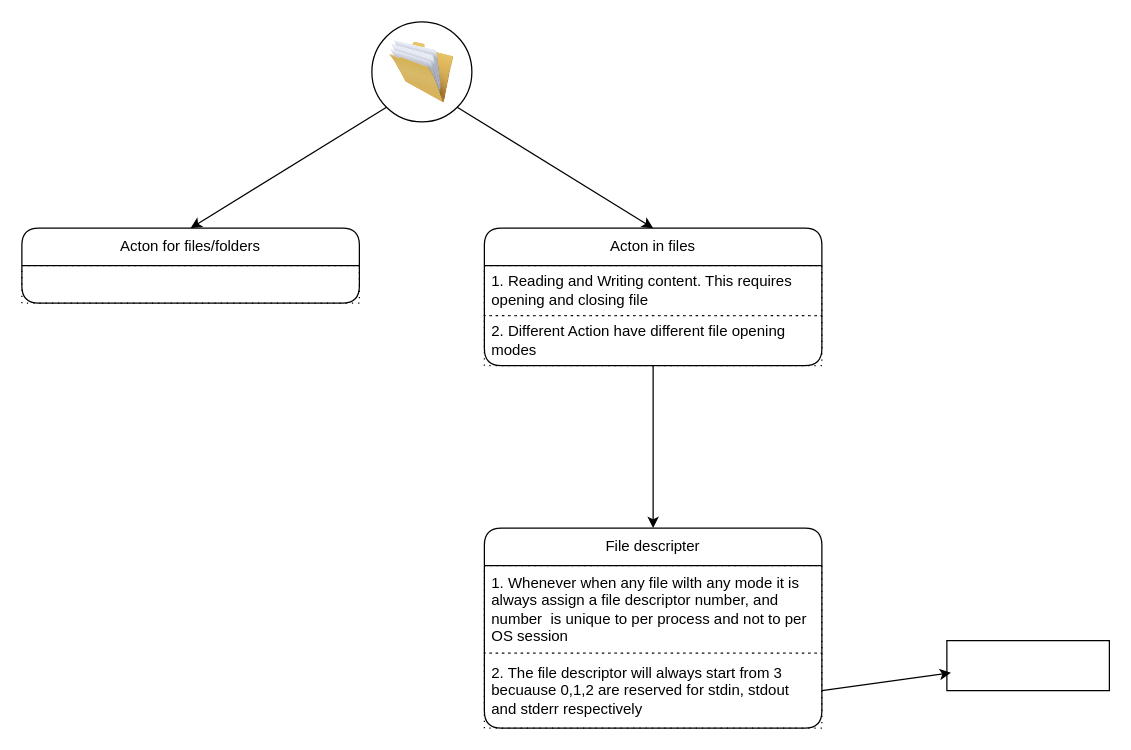
The diagram is 1131 pixels wide and 750 high, and some of its shapes have lost their labels. Here are the shapes that lost their labels. From the top down, the centre of each, then its label:
pixel 190 283: 1. create, delete/remove, rename, move
pixel 1027 665: every process has input, output and err
